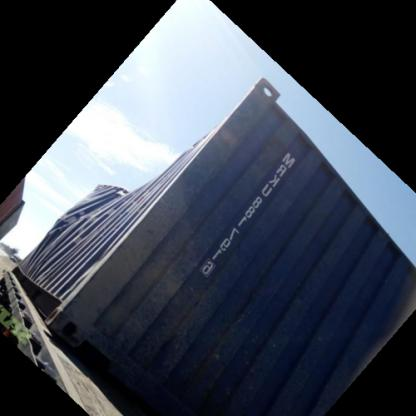Damage: (31, 181, 100, 265)
